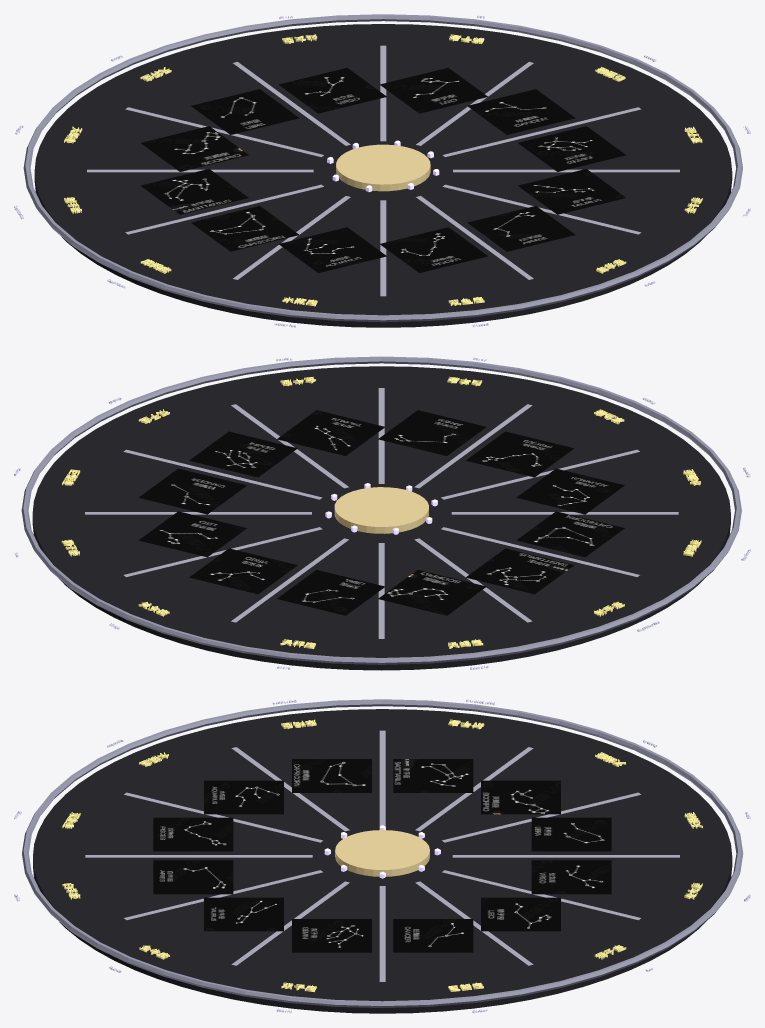
File: zodiac_wheel.glb
3 renders of one model, top to bottom at view 1: azimuth 30°, elevation 25°; view 2: azimuth 150°, elevation 25°; view 3: azimuth 270°, elevation 25°, orthographic.
Parts seen in each view (by area): view 1: zodiac_wheel; view 2: zodiac_wheel; view 3: zodiac_wheel.
Part boxes in pixels (x1,y1,x2,y2): zodiac_wheel: (14, 14, 750, 327); zodiac_wheel: (14, 356, 750, 670); zodiac_wheel: (14, 699, 750, 1013).
Size of the model in its own units: 2.96 by 0.078 by 2.95.
19 materials, 12 textured.
